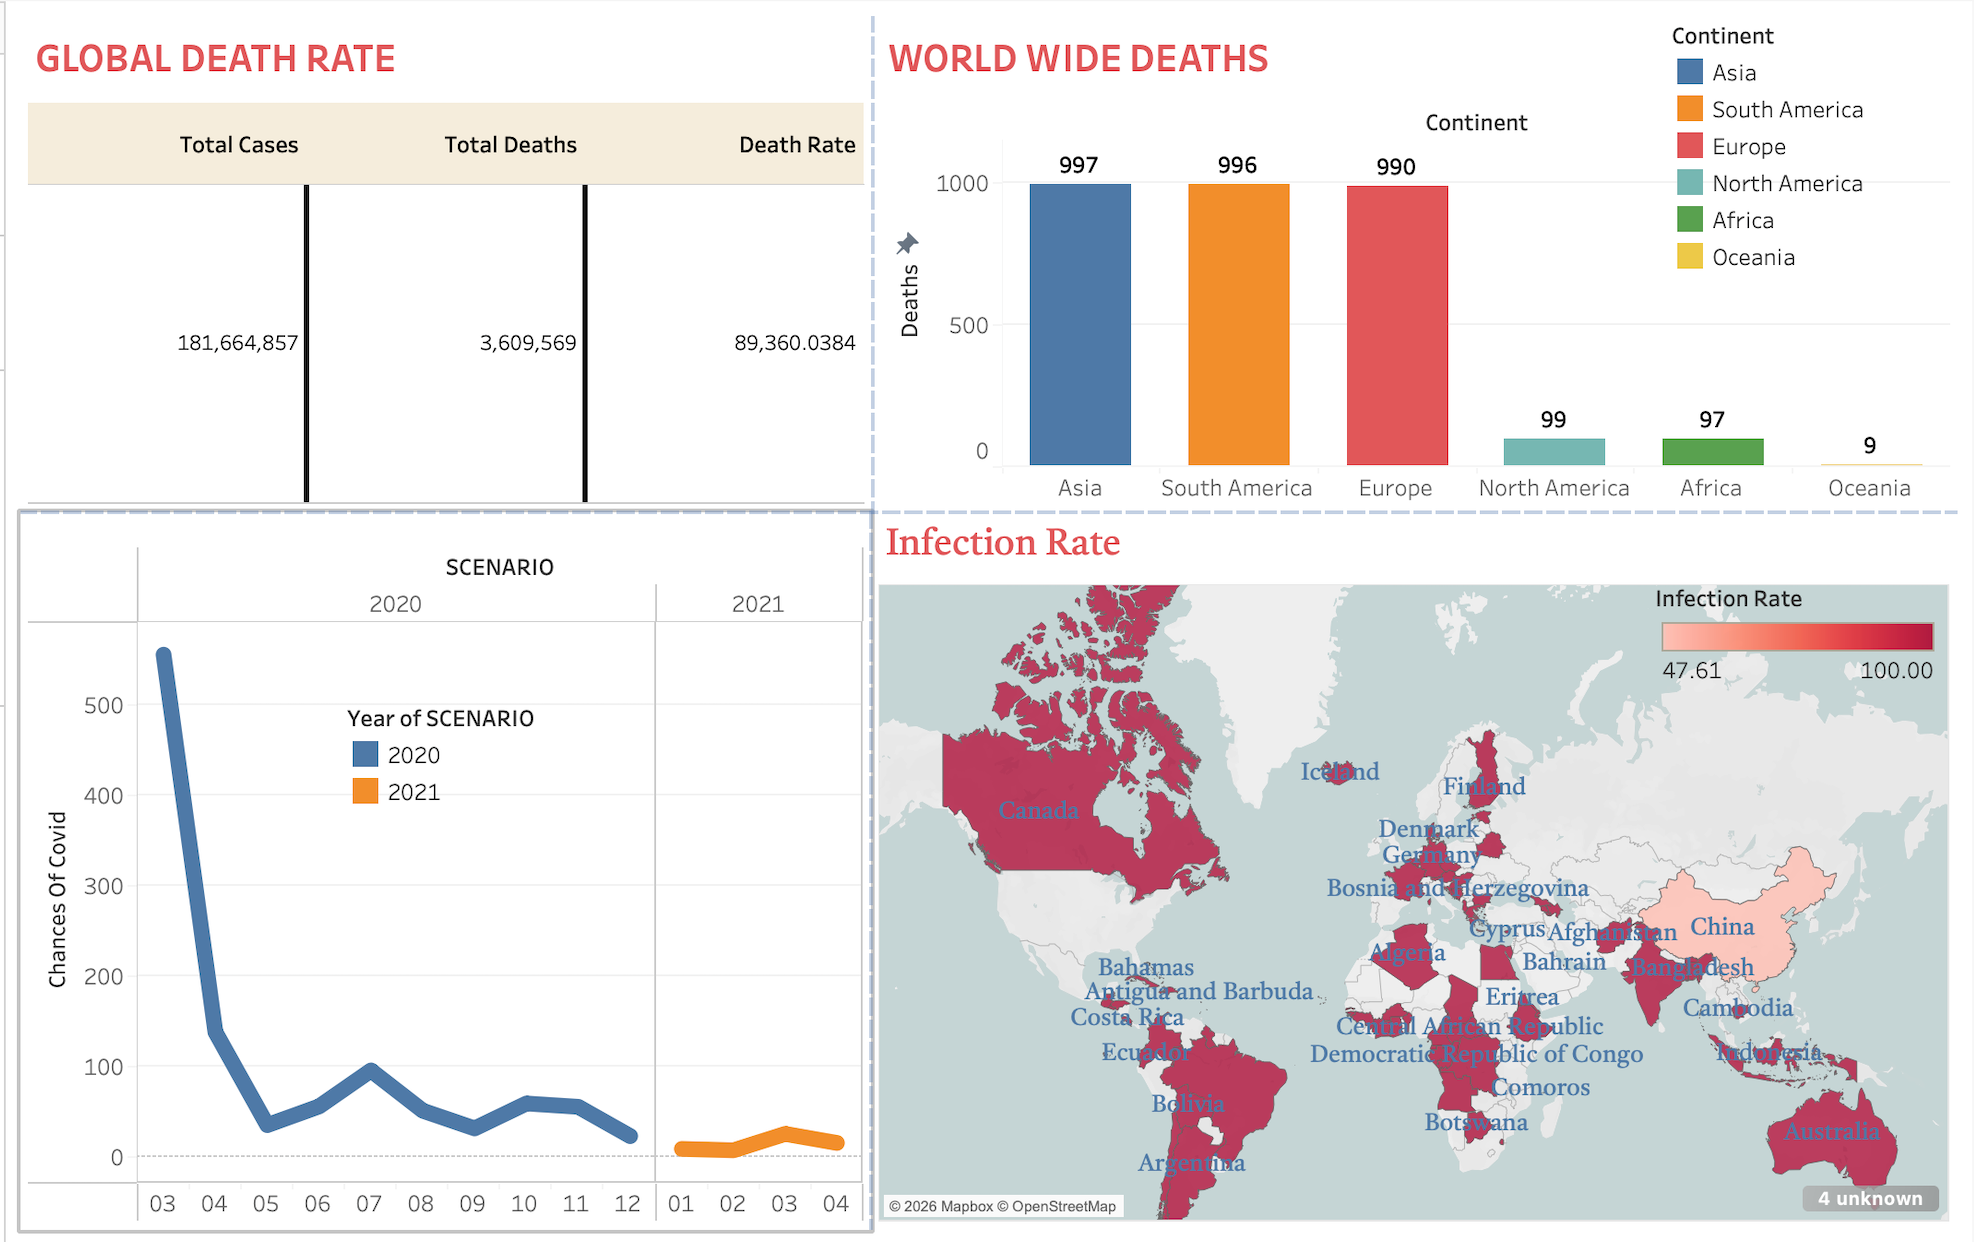

What the dashboard file says about the page in this screenshot:
{"tool":"tableau","page":{"name":"Dashboard 1","canvas":[1000,1000],"units":"permille","ordinal":0},"visuals":[{"type":"worksheet","title":"Sheet 1","mark":"Automatic","box":[7.5,11.9,433,399.1]},{"type":"worksheet","title":"Sheet 2","mark":"Automatic","rows":["max(deaths)"],"cols":["Continent"],"box":[440.5,11.9,552,399.1]},{"type":"legend","title":"Sheet 2","param":"[federated.0ptjlzs0atj5hs1gnrvkf0xih35a].[none:Continent:nk]","box":[847.3,14.8,131.9,204.8]},{"type":"worksheet","title":"Sheet 4","mark":"Automatic","rows":["CHANCES_OF_COVID"],"cols":["STR_TO_DATE(date, '%d/%m/%Y')","STR_TO_DATE(date, '%d/%m/%Y')"],"box":[7.5,411,432.7,577.2]},{"type":"worksheet","title":"Sheet 3","mark":"Automatic","box":[440.2,411,552.4,577.2]},{"type":"legend","title":"Sheet 3","param":"[federated.0aljyku0fse44618cm8800mgtfxc].[sum:INFECTION_RATE:qk]","box":[838.6,467.4,146.4,112.8]},{"type":"legend","title":"Sheet 4","param":"[federated.1syru4k0ezpp3y1dw5or51eextdv].[yr:STR_TO_DATE(date, '%d/%m/%Y'):ok]","box":[173.3,563.8,131.5,86]}]}

Visuals, with their boxes on the dashboard's canvas, which has no fixed pixel size, in thousandths of its width and height (x1, y1, x2, y2). These are canvas units, not pixel positions in the 1974x1242 screenshot, which may show the page scaled, cropped or inside an application window:
"Sheet 1" worksheet: 8, 12, 440, 411
"Sheet 2" worksheet: 440, 12, 992, 411
"Sheet 2" legend: 847, 15, 979, 220
"Sheet 4" worksheet: 8, 411, 440, 988
"Sheet 3" worksheet: 440, 411, 993, 988
"Sheet 3" legend: 839, 467, 985, 580
"Sheet 4" legend: 173, 564, 305, 650
